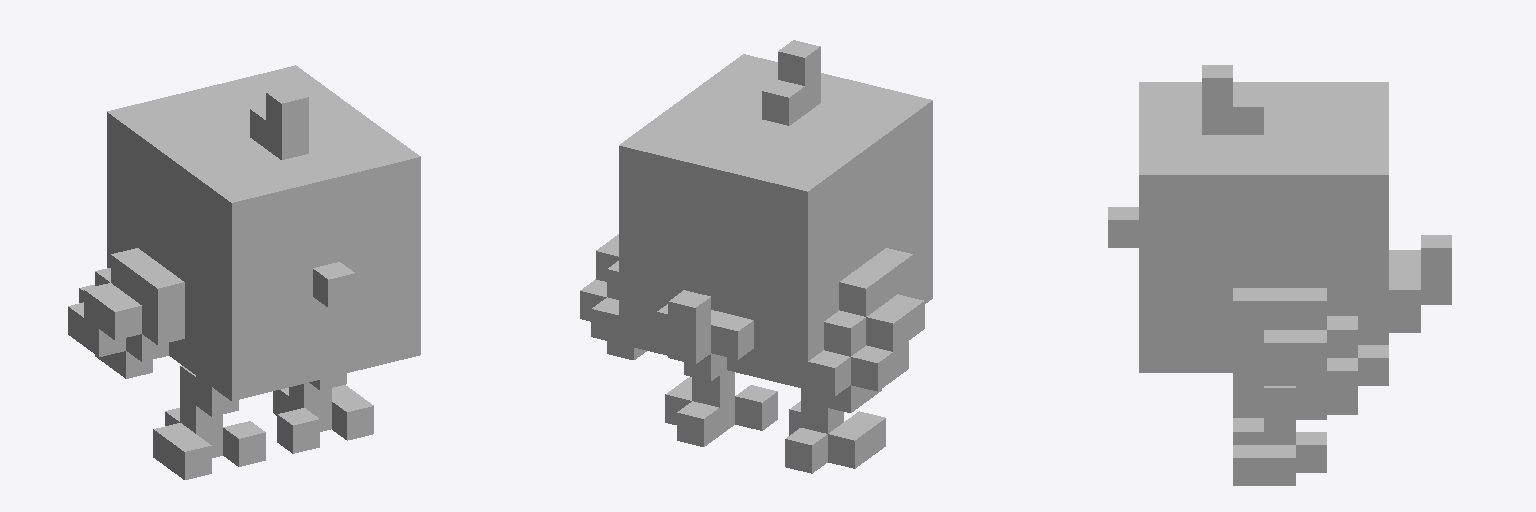
The model's file is Bird.obj.
3 views of the same model, side by side, from view 1: azimuth 30°, elevation 25°; view 2: azimuth 150°, elevation 25°; view 3: azimuth 270°, elevation 25° (orthographic).
Visible parts, largest first — view 1: object 1; view 2: object 1; view 3: object 1.
Part boxes in pixels (x1,y1,x2,y2): object 1: (68, 65, 420, 479); object 1: (580, 40, 932, 473); object 1: (1108, 65, 1451, 485).
Size of the model in its own units: 1.1 by 1.3 by 1.1.